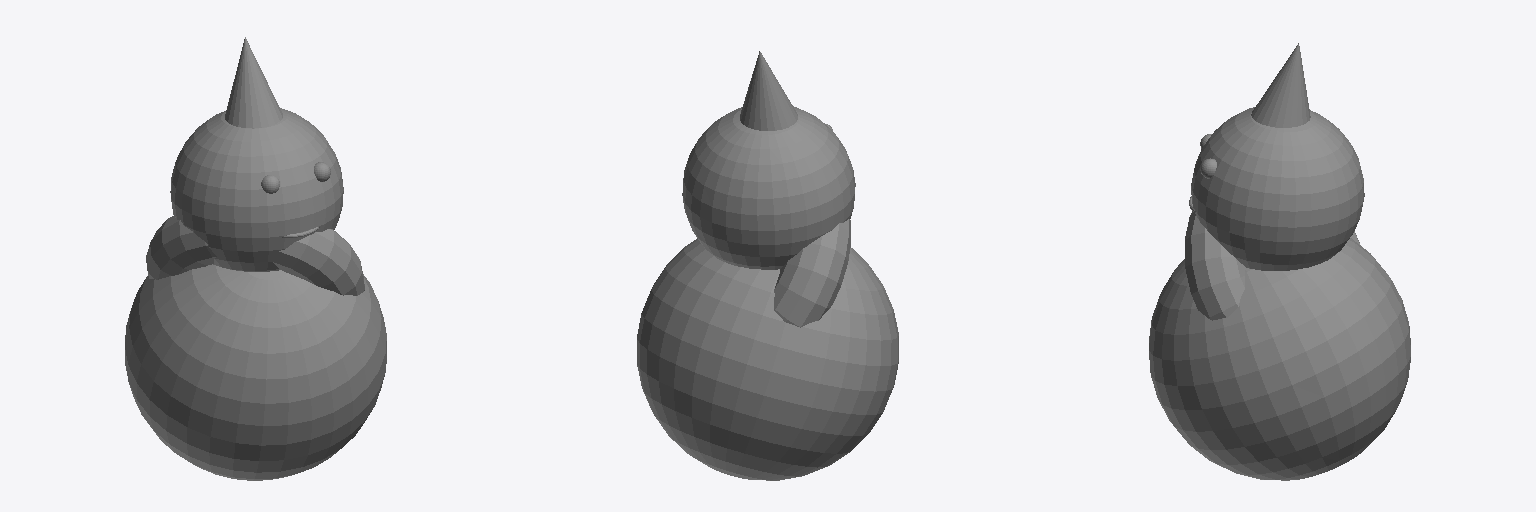
Rendered from snowman.obj.
3 renders of one model, left to right at view 1: azimuth 30°, elevation 25°; view 2: azimuth 150°, elevation 25°; view 3: azimuth 270°, elevation 25°, orthographic.
Parts seen in each view (by area): view 1: Sphere001, Sphere002, Torus002, Cone001; view 2: Sphere001, Sphere002, Torus002, Cone001; view 3: Sphere001, Sphere002, Torus002, Cone001.
Boxes of the visible parts, x1,y1,x2,y2 form: Sphere001: [125, 264, 386, 480]; Sphere002: [170, 108, 343, 271]; Torus002: [146, 216, 364, 295]; Cone001: [225, 37, 282, 128]; Sphere001: [637, 238, 898, 480]; Sphere002: [682, 106, 855, 269]; Torus002: [774, 219, 850, 327]; Cone001: [740, 51, 797, 130]; Sphere001: [1149, 238, 1410, 480]; Sphere002: [1191, 107, 1364, 270]; Torus002: [1185, 211, 1359, 320]; Cone001: [1251, 43, 1310, 127].
Bounding box in the file's own units: 5.21 × 9.31 × 5.21.